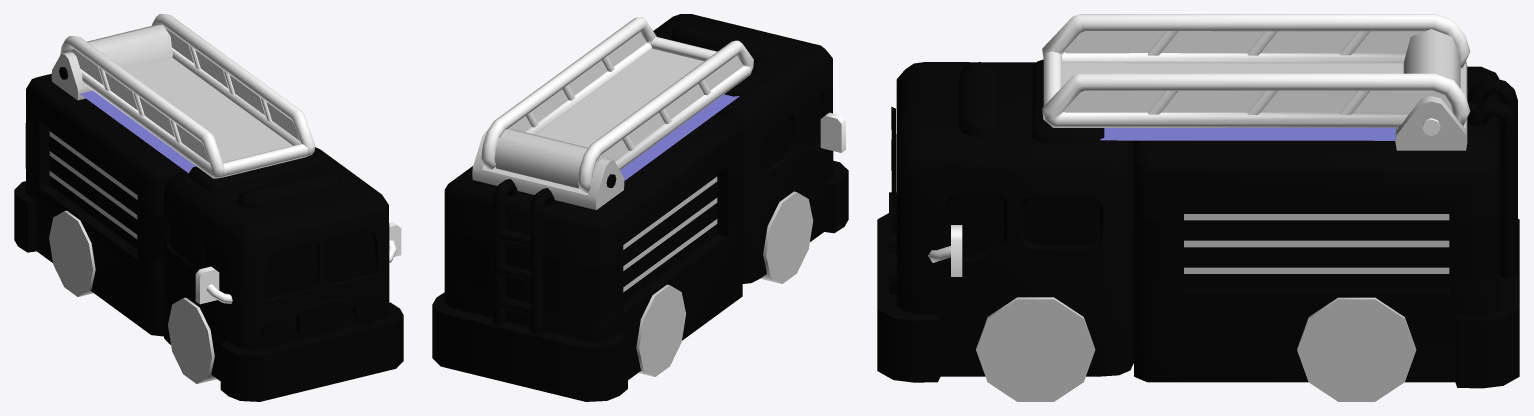
The model's file is Fire Engine.fbx.
The picture shows the model from 3 angles, left to right: view 1: azimuth 30°, elevation 25°; view 2: azimuth 150°, elevation 25°; view 3: azimuth 270°, elevation 25°; orthographic projection. The views are drawn at different scales.
Visible parts, largest first — view 1: Fire_Engine_001, Wheel_001; view 2: Fire_Engine_001, Wheel_001; view 3: Fire_Engine_001, Wheel_001.
Part boxes in pixels (x1,y1,x2,y2): Fire_Engine_001: (14,14,403,401); Wheel_001: (49,210,216,383); Fire_Engine_001: (432,14,848,401); Wheel_001: (636,191,813,376); Fire_Engine_001: (877,14,1519,388); Wheel_001: (976,297,1416,401).
Size of the model in its own units: 2.3 by 2.47 by 4.71.
